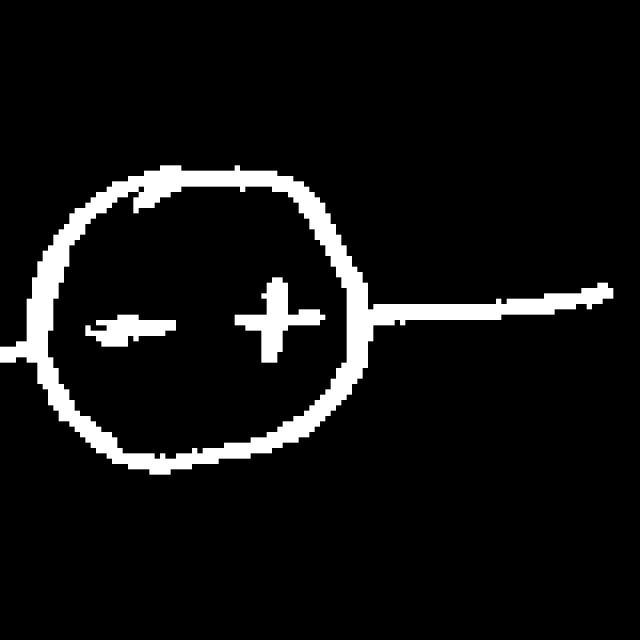voltage_source: (22, 154, 374, 479)
